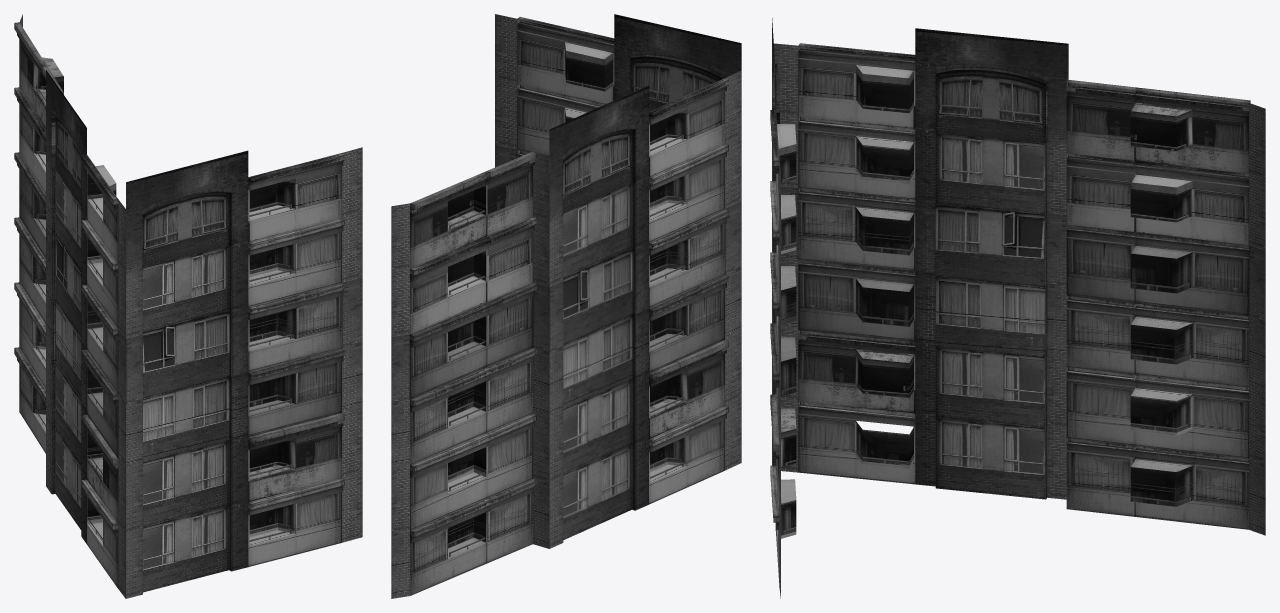
Rendered from chinatown building2.fbx.
3 renders of one model, left to right at view 1: azimuth 30°, elevation 25°; view 2: azimuth 150°, elevation 25°; view 3: azimuth 270°, elevation 25°, orthographic. The views are drawn at different scales.
Parts seen in each view (by area): view 1: chinatown_building_2; view 2: chinatown_building_2; view 3: chinatown_building_2.
Boxes of the visible parts, box(x1,y1,x2,y2) form: chinatown_building_2: box(14, 14, 362, 598); chinatown_building_2: box(391, 14, 741, 598); chinatown_building_2: box(770, 18, 1265, 598).
Size of the model in its own units: 1020 by 1684 by 1658.
